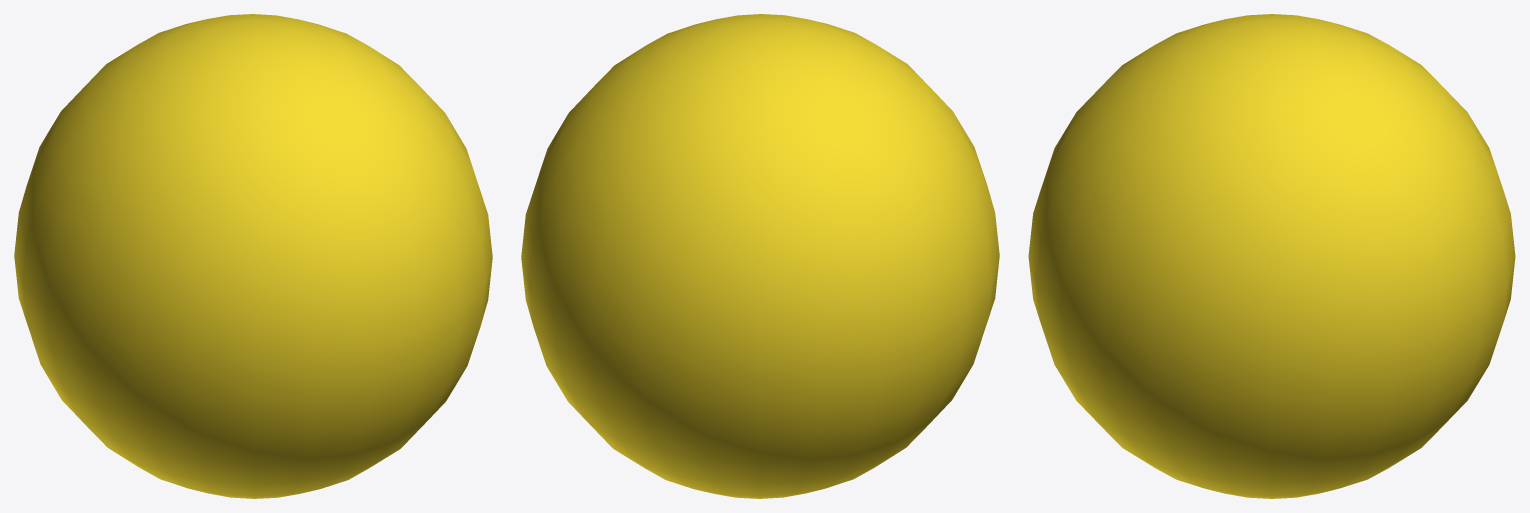
File: SM_EG_Fruit_lemon_Plain_99d52cdf19.fbx
3 views of the same model, side by side, from view 1: azimuth 30°, elevation 25°; view 2: azimuth 150°, elevation 25°; view 3: azimuth 270°, elevation 25° (orthographic).
Parts seen in each view (by area): view 1: SM_EG_Fruit_lemon_Plain_99d52cdf19; view 2: SM_EG_Fruit_lemon_Plain_99d52cdf19; view 3: SM_EG_Fruit_lemon_Plain_99d52cdf19.
Boxes of the visible parts, bbox=[...] form: SM_EG_Fruit_lemon_Plain_99d52cdf19: bbox=[14, 14, 492, 498]; SM_EG_Fruit_lemon_Plain_99d52cdf19: bbox=[521, 14, 999, 498]; SM_EG_Fruit_lemon_Plain_99d52cdf19: bbox=[1028, 14, 1515, 498].
Size of what is drawn, in the model's own units: 19.6 by 20 by 20.
